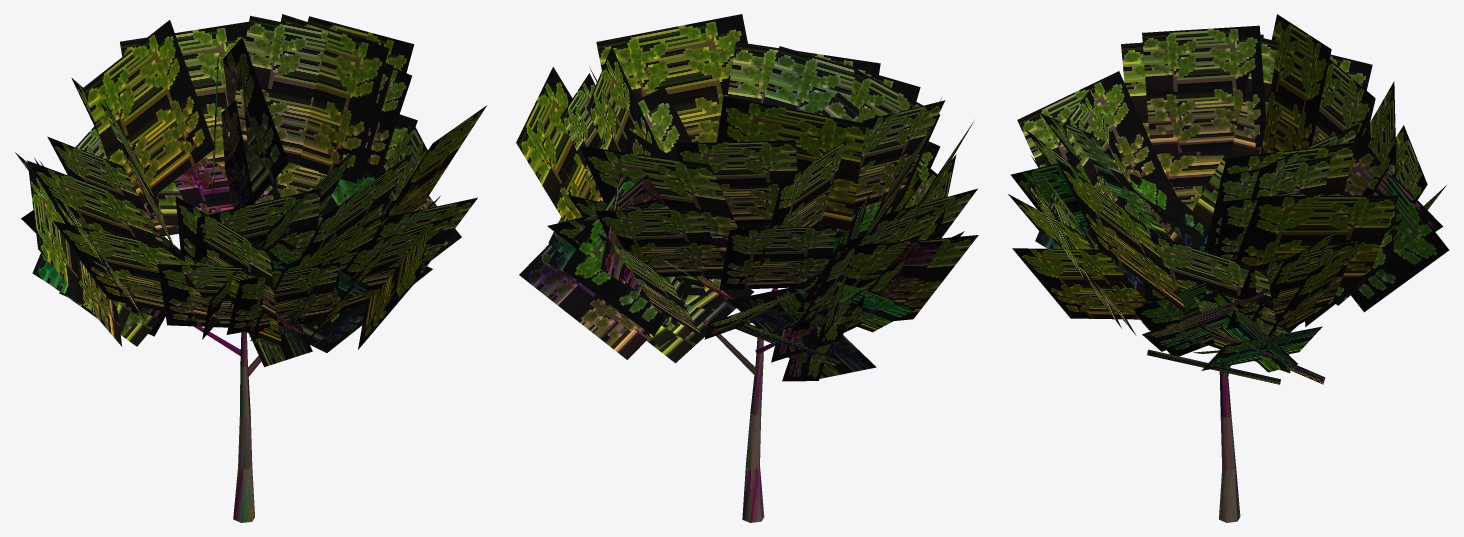
The model's file is tree-linden-lo.glb.
3 views of the same model, side by side, from view 1: azimuth 30°, elevation 25°; view 2: azimuth 150°, elevation 25°; view 3: azimuth 270°, elevation 25° (orthographic).
Visible parts, largest first — view 1: lo-leaf, lo-bark; view 2: lo-leaf, lo-bark; view 3: lo-leaf, lo-bark.
Boxes of the visible parts, x1=… form: lo-leaf: x1=15, y1=14, x2=486, y2=367; lo-bark: x1=194, y1=326, x2=261, y2=522; lo-leaf: x1=516, y1=14, x2=978, y2=381; lo-bark: x1=701, y1=282, x2=778, y2=522; lo-leaf: x1=1008, y1=14, x2=1449, y2=384; lo-bark: x1=1219, y1=338, x2=1240, y2=522.
Bounding box in the file's own units: 13.74 × 14.72 × 12.87.
Materials: 2 (2 with a texture image).
